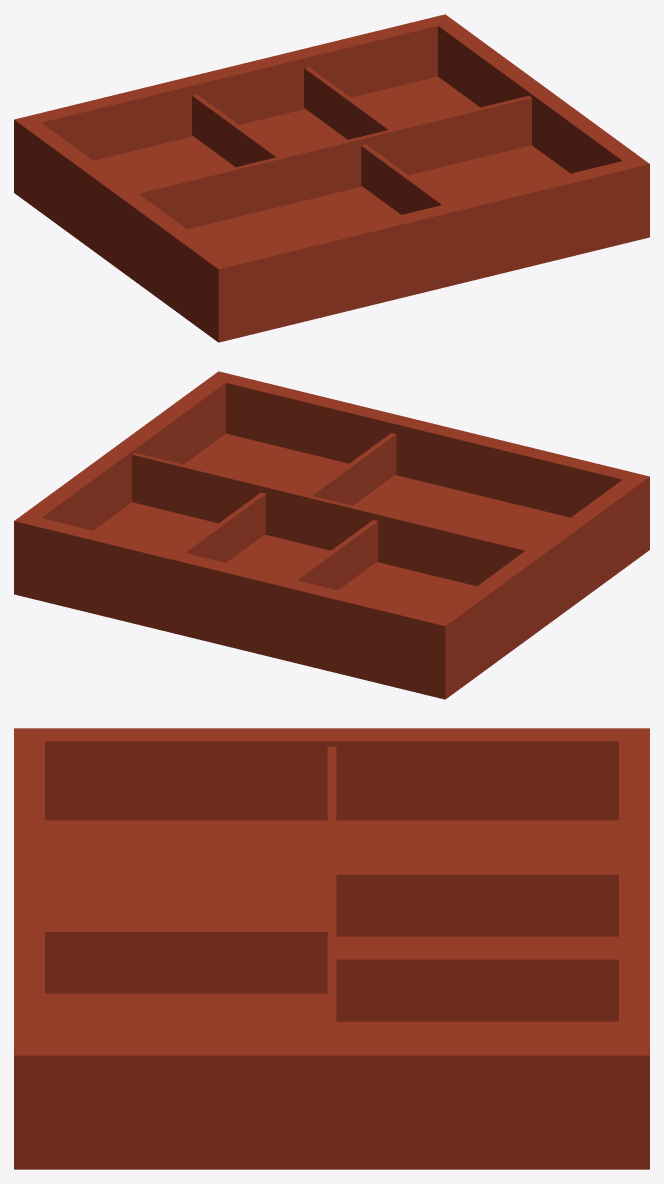
File: trey.glb
The picture shows the model from 3 angles, top to bottom: view 1: azimuth 30°, elevation 25°; view 2: azimuth 150°, elevation 25°; view 3: azimuth 270°, elevation 25°; orthographic projection. The views are drawn at different scales.
Visible parts, largest first — view 1: trey; view 2: trey; view 3: trey.
Boxes of the visible parts, left/top/right/bottom form: trey: left=14, top=14, right=649, bottom=342; trey: left=14, top=371, right=649, bottom=699; trey: left=14, top=728, right=649, bottom=1169.
Bounding box in the file's own units: 4 × 0.65 × 3.29.
